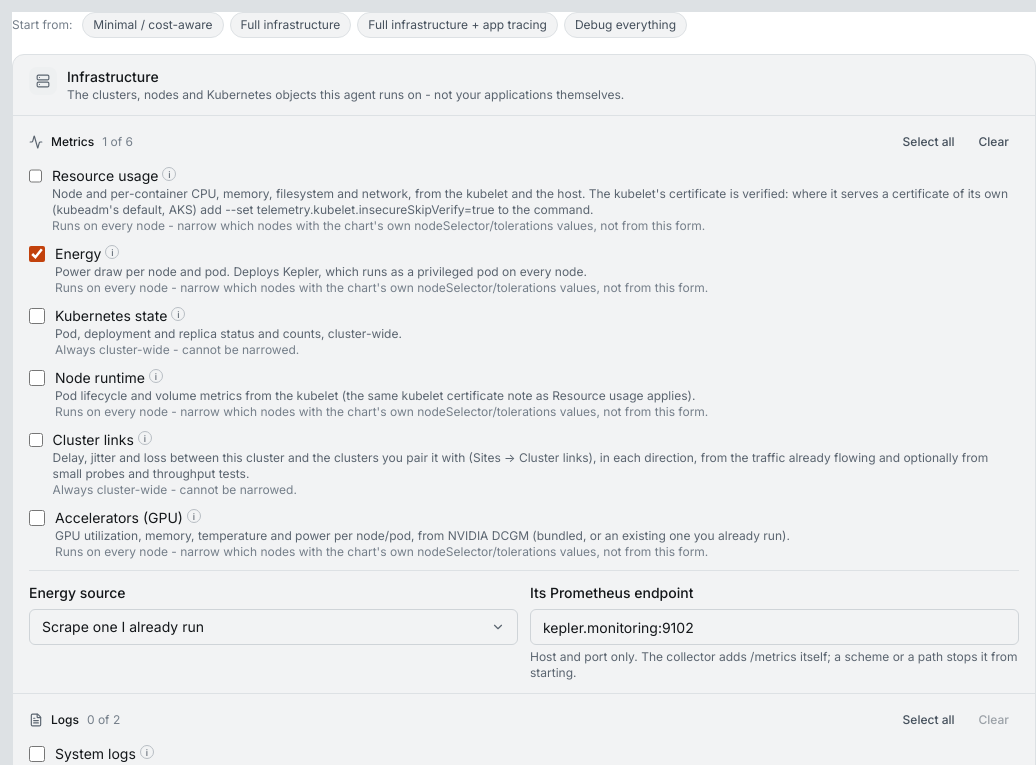
Test: CollectStep › a loaded configuration that already scrapes an existing Kepler keeps its picker and endpoint
Expected: the field with test id "c-energy-endpoint" holds "kepler.monitoring:9102", 530,609 -> 1019,645
// Switching it to the bundled Kepler does not make the picker vanish under the person's hand.
Click the dropdown with test id "c-energy-source" at point(123, 626), box 29,609 -> 518,645
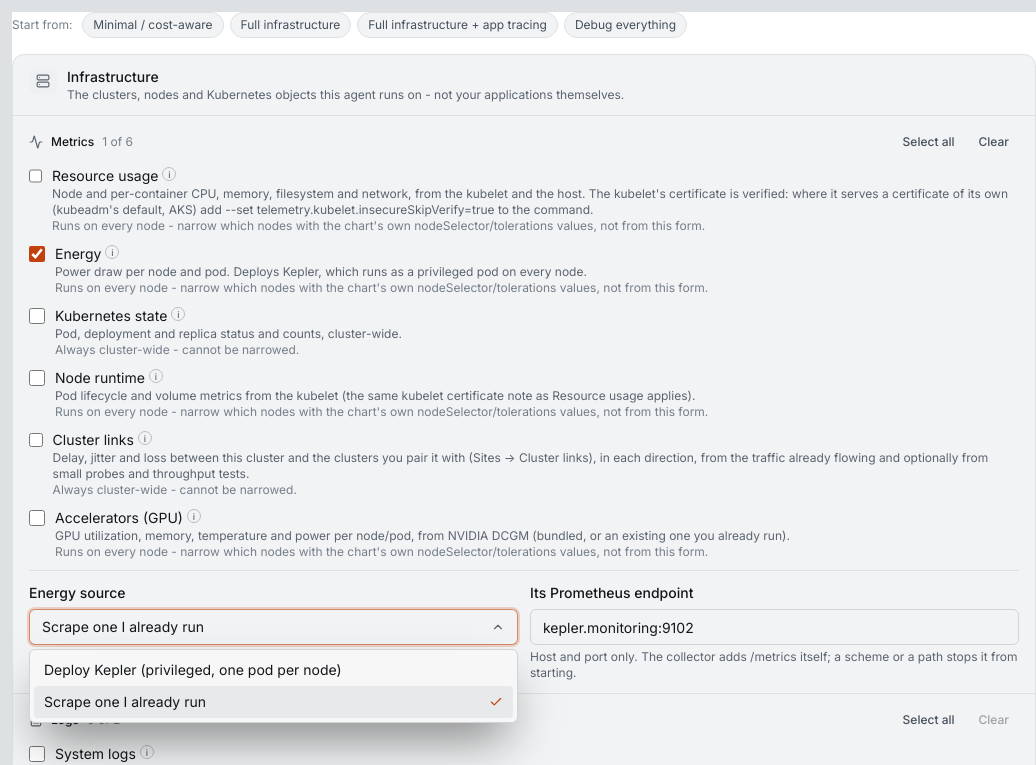
Click the option "Deploy Kepler (privileged, one pod per node)" at point(193, 670), box 44,661 -> 342,678
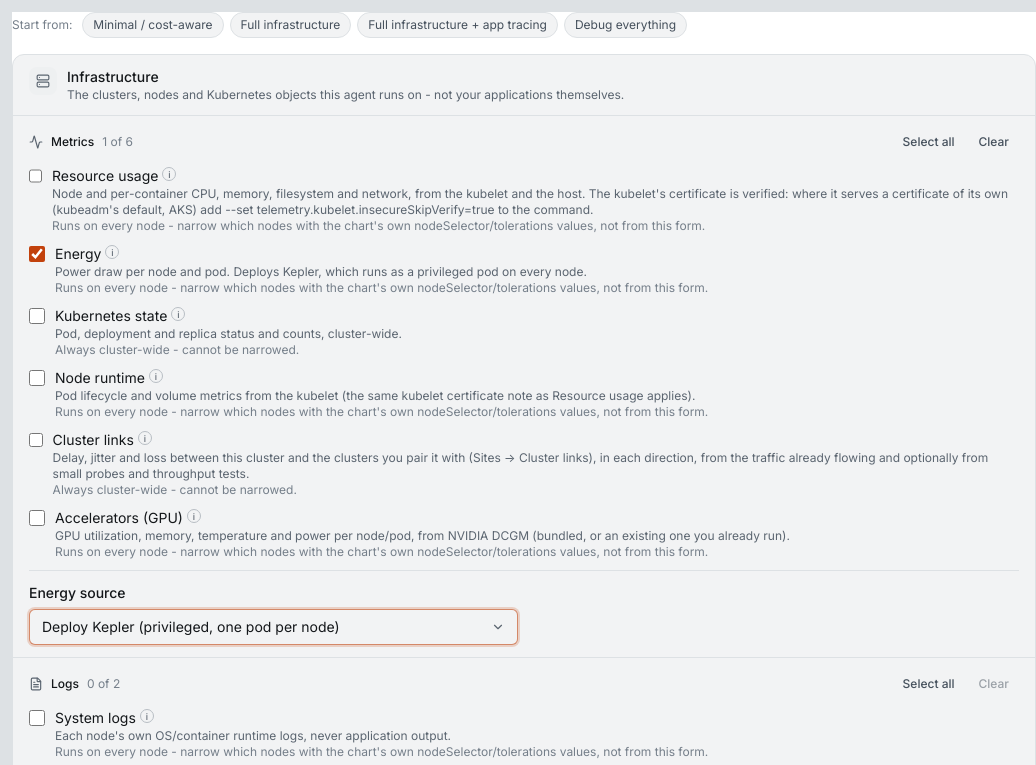
Expected: the dropdown with test id "c-energy-source" is shown, 29,609 -> 518,645
Result: the field with test id "c-energy-endpoint" is gone
